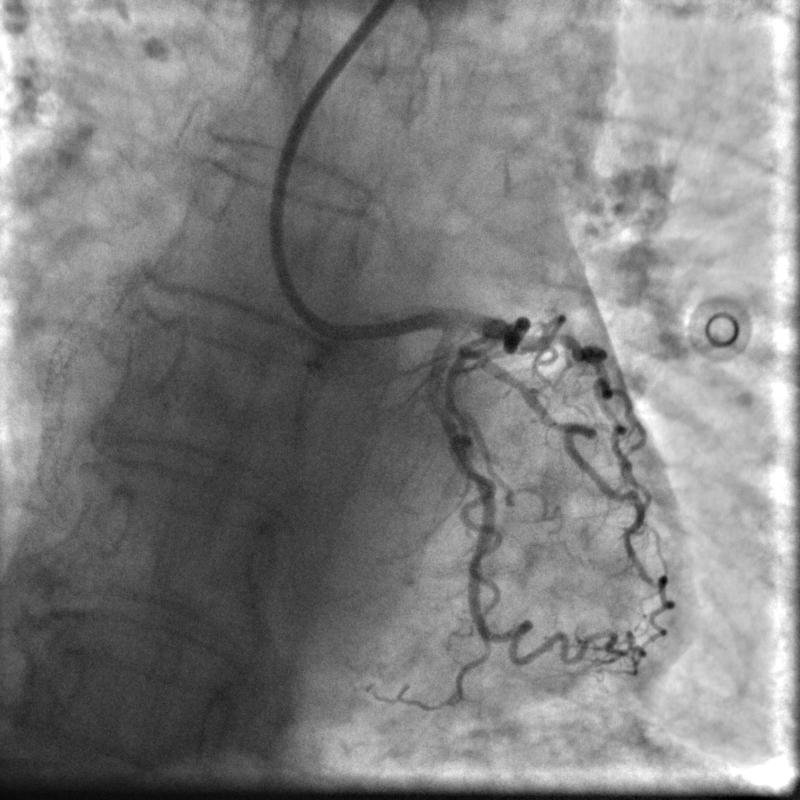Stenosis: (424, 381, 447, 413)
